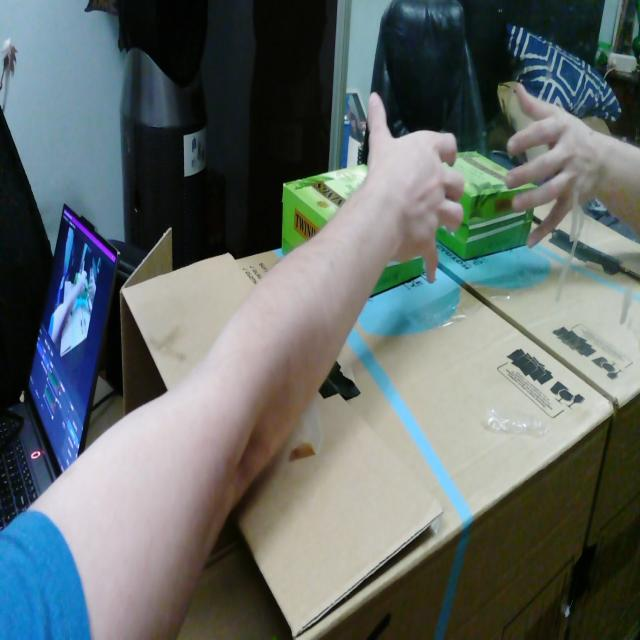twinings_greentea_box: (282, 164, 368, 255), (371, 256, 424, 295)
